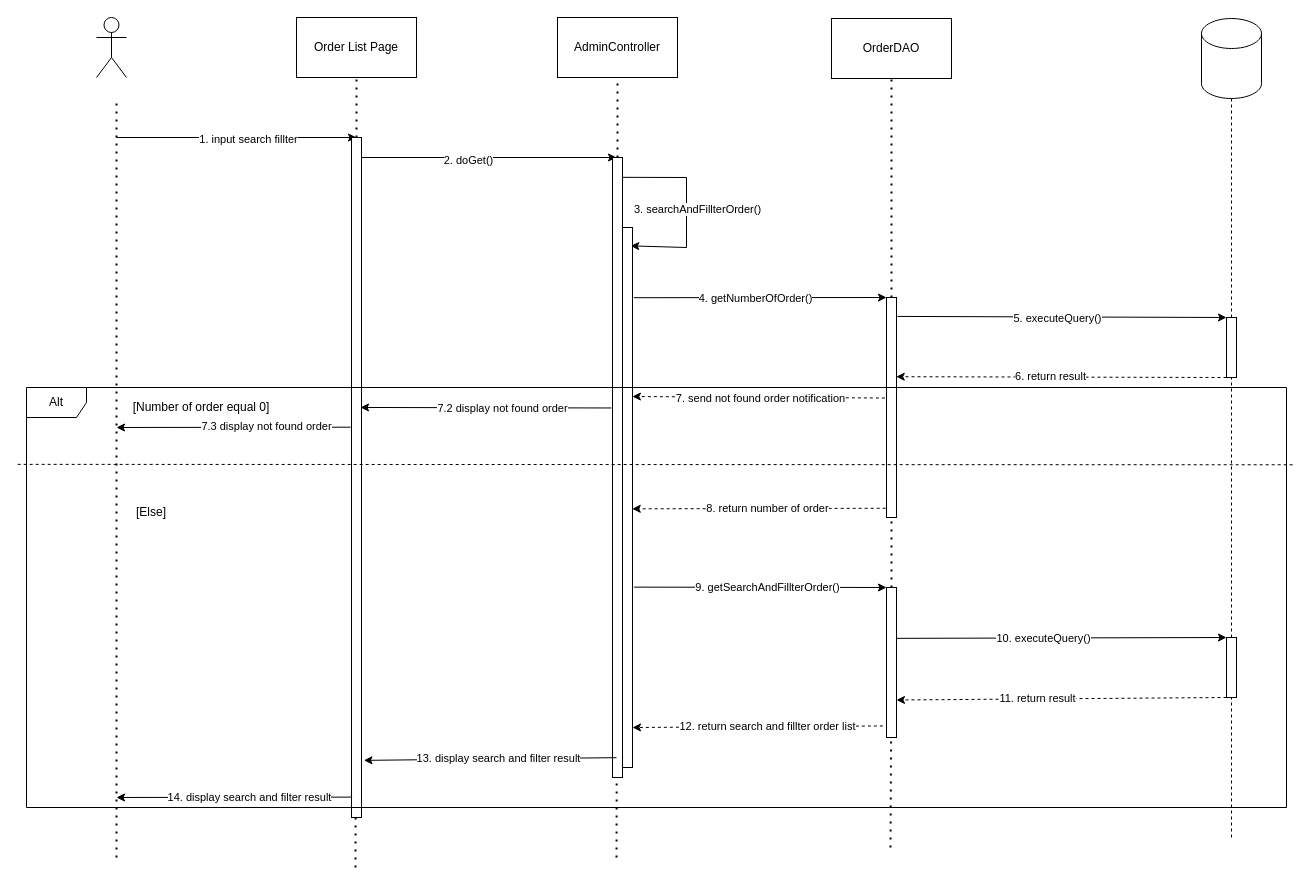
This 1314x887 diagram has some shape labels left out. Here are the shapes that lost their labels. From the top down, the centre of each, then its label:
the point at 111,47: Admin
the point at 1231,58: DB
